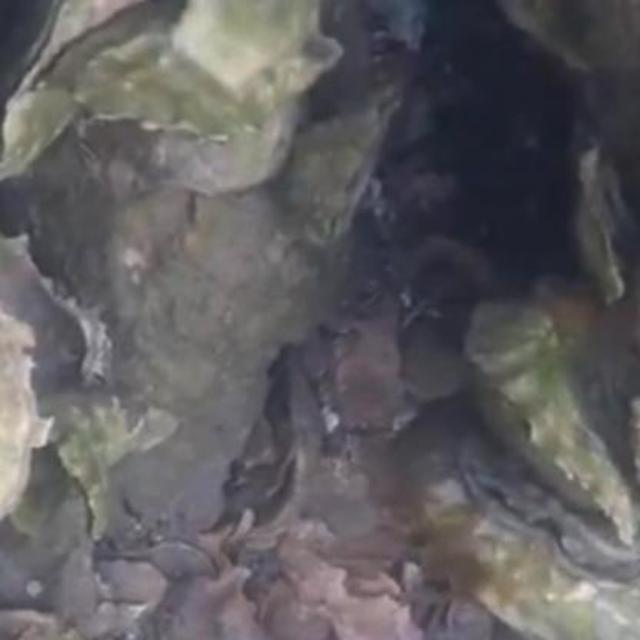Oyster-Closed: (70, 0, 347, 146), (470, 298, 634, 535), (285, 77, 408, 252)
Oyster-Open: (4, 0, 189, 187), (455, 429, 638, 593), (572, 142, 638, 313)
